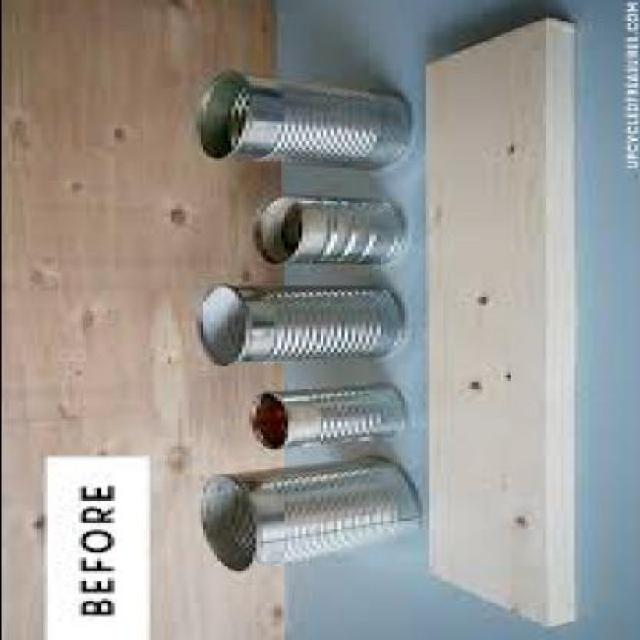METAL: (195, 456, 410, 576), (187, 72, 410, 173), (191, 286, 403, 368), (247, 196, 407, 267), (244, 387, 407, 451)
